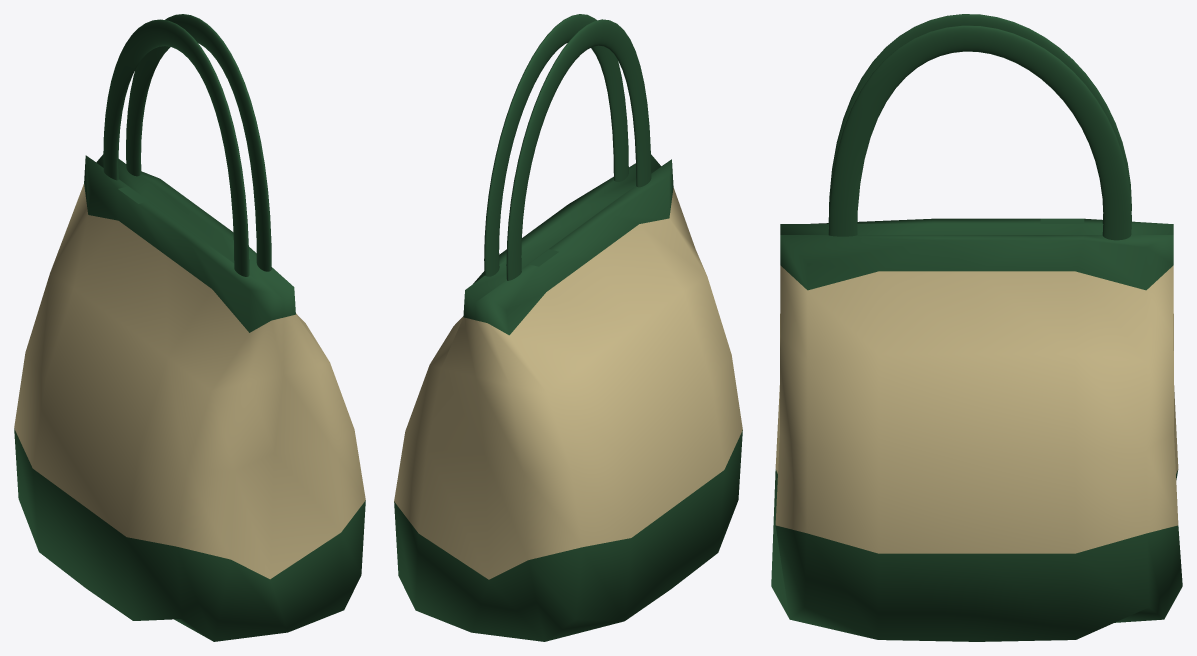
The model's file is tote_bag.fbx.
3 renders of one model, left to right at view 1: azimuth 30°, elevation 25°; view 2: azimuth 150°, elevation 25°; view 3: azimuth 270°, elevation 25°, orthographic. The views are drawn at different scales.
Visible parts, largest first — view 1: Cube, BezierCurve, BezierCurve.001; view 2: Cube, BezierCurve, BezierCurve.001; view 3: Cube, BezierCurve.001, BezierCurve.
Boxes of the visible parts, x1,y1,x2,y2 form: Cube: [14, 154, 365, 641]; BezierCurve: [103, 19, 249, 276]; BezierCurve.001: [126, 14, 271, 271]; Cube: [394, 154, 742, 641]; BezierCurve: [506, 19, 651, 280]; BezierCurve.001: [484, 14, 628, 276]; Cube: [771, 218, 1182, 641]; BezierCurve.001: [828, 25, 1131, 240]; BezierCurve: [828, 14, 1131, 223].
Size of the model in its own units: 0.6538 by 1.57 by 1.01.
